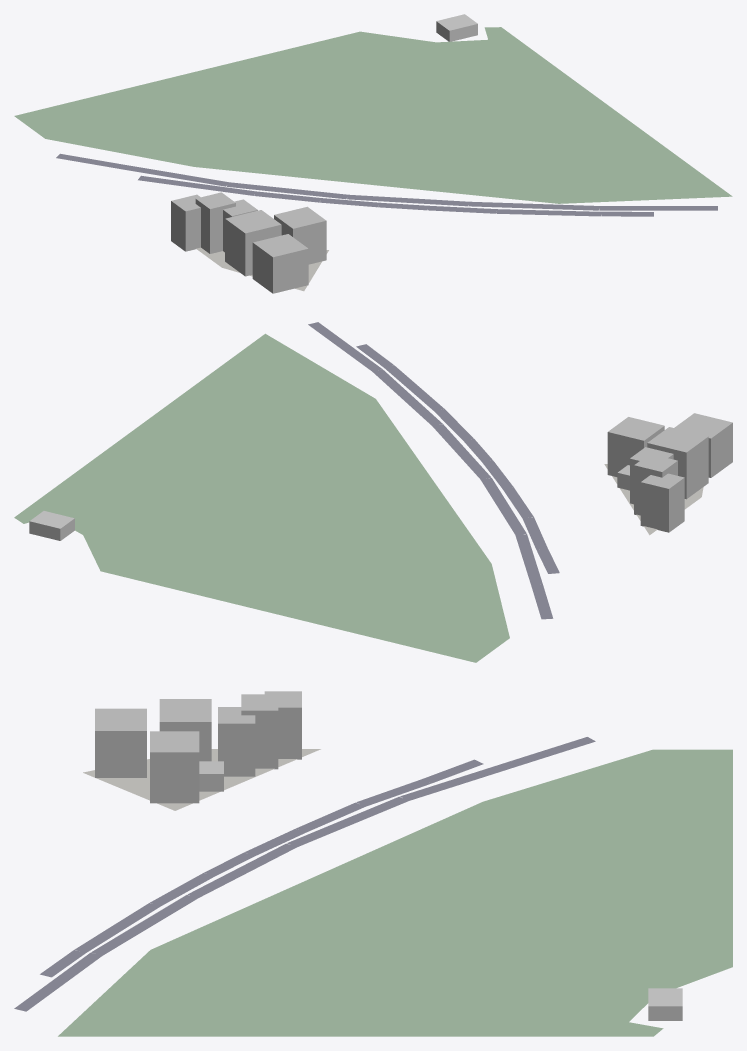
Rendered from 134_114_mid.glb.
The picture shows the model from 3 angles, top to bottom: view 1: azimuth 30°, elevation 25°; view 2: azimuth 150°, elevation 25°; view 3: azimuth 270°, elevation 25°; orthographic projection. The views are drawn at different scales.
Bounding box in the file's own units: 516 × 47.89 × 530.
